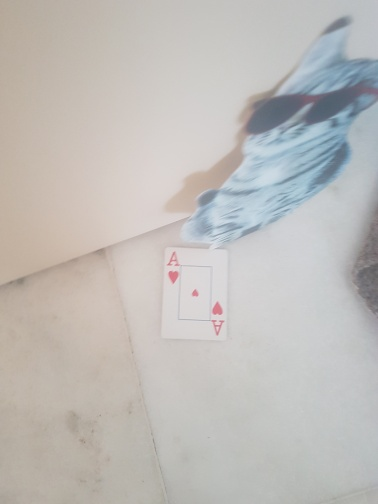ace: (160, 249, 231, 342)
